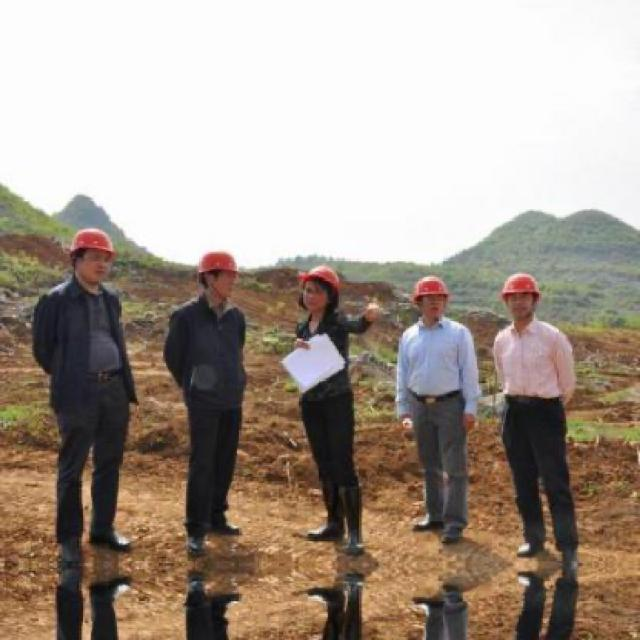helmet: (65, 222, 122, 284), (296, 257, 344, 315), (197, 243, 243, 303), (497, 266, 541, 322), (409, 269, 451, 320)
